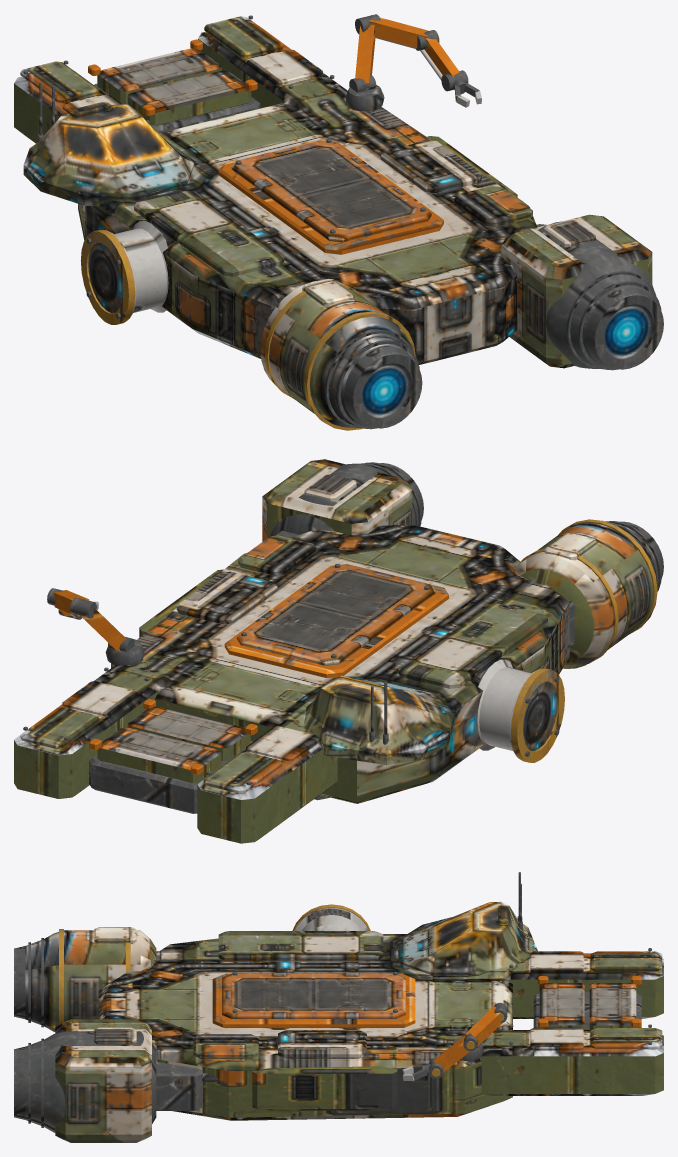
The model's file is second-wind.obj.
3 renders of one model, top to bottom at view 1: azimuth 30°, elevation 25°; view 2: azimuth 150°, elevation 25°; view 3: azimuth 270°, elevation 25°, orthographic. The views are drawn at different scales.
Parts seen in each view (by area): view 1: hull.workshop, bridge.glazing, engine.port.housing, cargo.workshop.lid, engine.starboard.housing, engine.starboard.inner-core, armor.replacement-panel.0, cargo.pallet-module.1, cradle.starboard.rail, cargo.workshop.coaming, cargo.pallet-module.0, armor.replacement-panel.1 (+25 smaller); view 2: hull.workshop, cargo.workshop.lid, engine.port.housing, bridge.glazing, cradle.port.rail, cradle.starboard.rail, engine.starboard.housing, armor.replacement-panel.0, cargo.pallet-module.0, cargo.workshop.coaming, cargo.pallet-frame, armor.replacement-panel.1 (+17 smaller); view 3: hull.workshop, engine.starboard.housing, cradle.starboard.rail, cargo.workshop.lid, engine.port.housing, bridge.glazing, hull.starboard-loading-hatch, armor.replacement-panel.0, cradle.port.rail, engine.starboard.inner-core, cargo.workshop.coaming, armor.replacement-panel.1 (+17 smaller).
Part boxes in pixels (bbox=[...]): hull.workshop: bbox=[78, 102, 536, 364]; bridge.glazing: bbox=[23, 104, 194, 206]; engine.port.housing: bbox=[260, 280, 414, 427]; cargo.workshop.lid: bbox=[231, 140, 431, 242]; engine.starboard.housing: bbox=[501, 214, 652, 368]; engine.starboard.inner-core: bbox=[538, 221, 656, 368]; armor.replacement-panel.0: bbox=[134, 190, 284, 276]; cargo.pallet-module.1: bbox=[127, 70, 251, 125]; cradle.starboard.rail: bbox=[198, 26, 347, 112]; cargo.workshop.coaming: bbox=[218, 140, 443, 254]; cargo.pallet-module.0: bbox=[97, 48, 221, 104]; armor.replacement-panel.1: bbox=[380, 140, 482, 193]; hull.workshop: bbox=[111, 525, 569, 803]; cargo.workshop.lid: bbox=[237, 564, 435, 665]; engine.port.housing: bbox=[514, 523, 658, 668]; bridge.glazing: bbox=[303, 676, 455, 765]; cradle.port.rail: bbox=[197, 709, 337, 843]; cradle.starboard.rail: bbox=[14, 665, 171, 798]; engine.starboard.housing: bbox=[262, 459, 412, 541]; armor.replacement-panel.0: bbox=[398, 603, 547, 688]; cargo.pallet-module.0: bbox=[97, 727, 221, 783]; cargo.workshop.coaming: bbox=[224, 564, 448, 677]; cargo.pallet-frame: bbox=[89, 741, 252, 813]; armor.replacement-panel.1: bbox=[176, 571, 277, 624]; hull.workshop: bbox=[98, 934, 512, 1120]; engine.starboard.housing: bbox=[55, 1019, 151, 1142]; cradle.starboard.rail: bbox=[479, 1030, 663, 1095]; cargo.workshop.lid: bbox=[222, 973, 405, 1018]; engine.port.housing: bbox=[25, 930, 156, 1031]; bridge.glazing: bbox=[396, 901, 537, 975]; hull.starboard-loading-hatch: bbox=[252, 1066, 397, 1110]; armor.replacement-panel.0: bbox=[218, 931, 383, 961]; cradle.port.rail: bbox=[478, 953, 663, 1018]; engine.starboard.inner-core: bbox=[25, 1031, 156, 1132]; cargo.workshop.coaming: bbox=[212, 973, 415, 1027]; armor.replacement-panel.1: bbox=[278, 1030, 366, 1058].
Size of the model in its own units: 12.79 by 4.63 by 19.82.
Materials: 2 (2 with a texture image).
